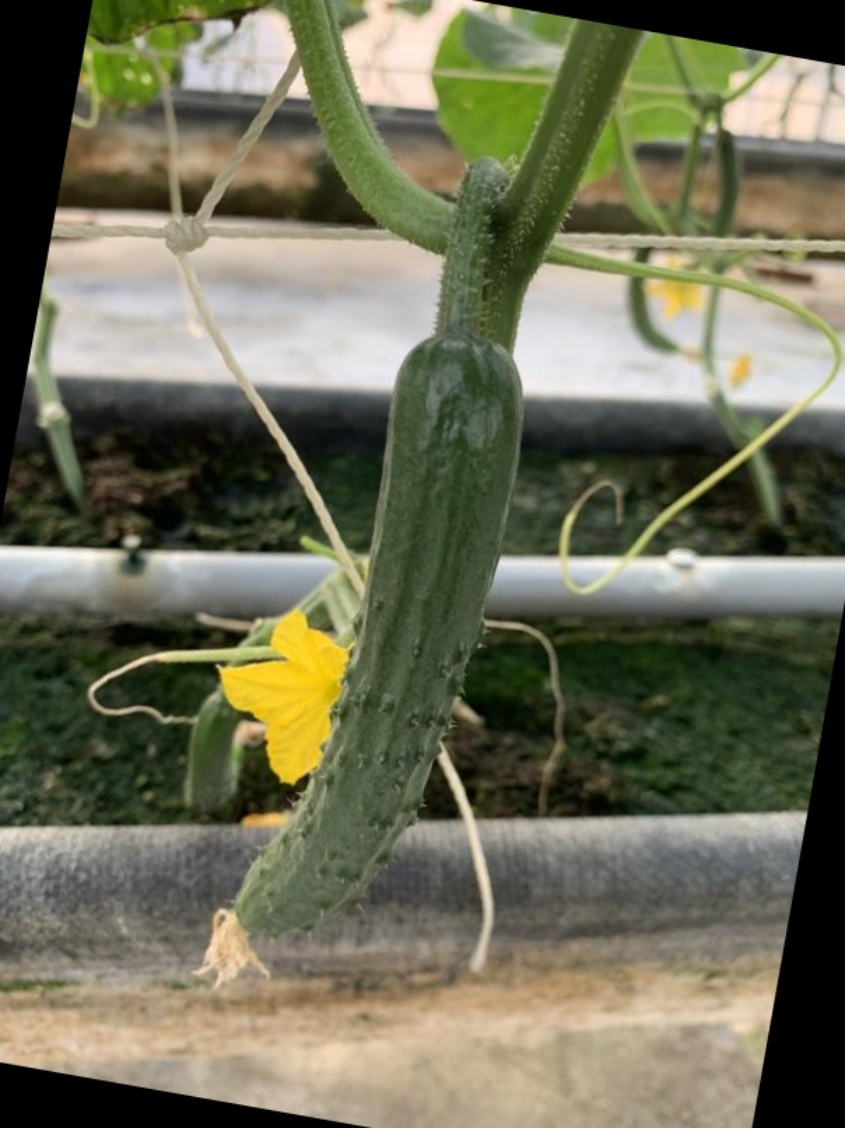mature: (219, 321, 538, 986)
